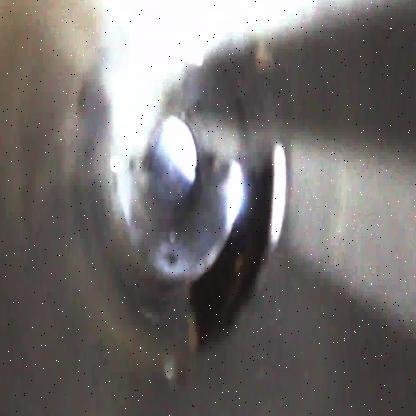Crack2: (186, 161, 288, 353)
